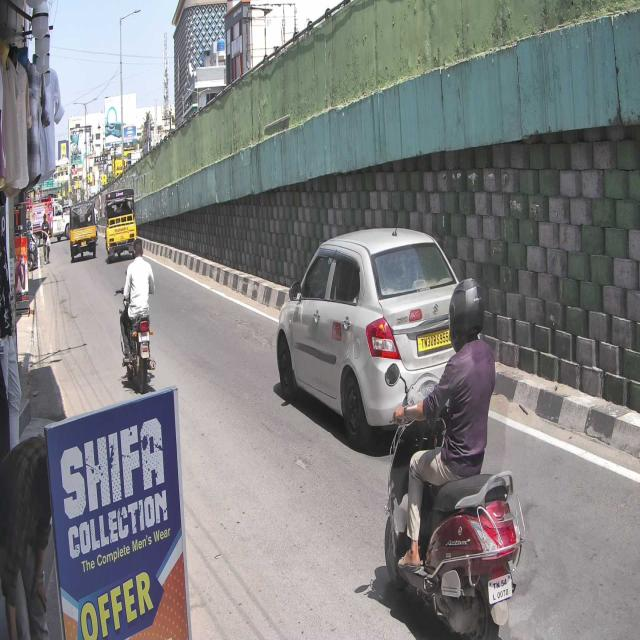single_rider: (383, 274, 526, 640), (116, 235, 158, 401)
